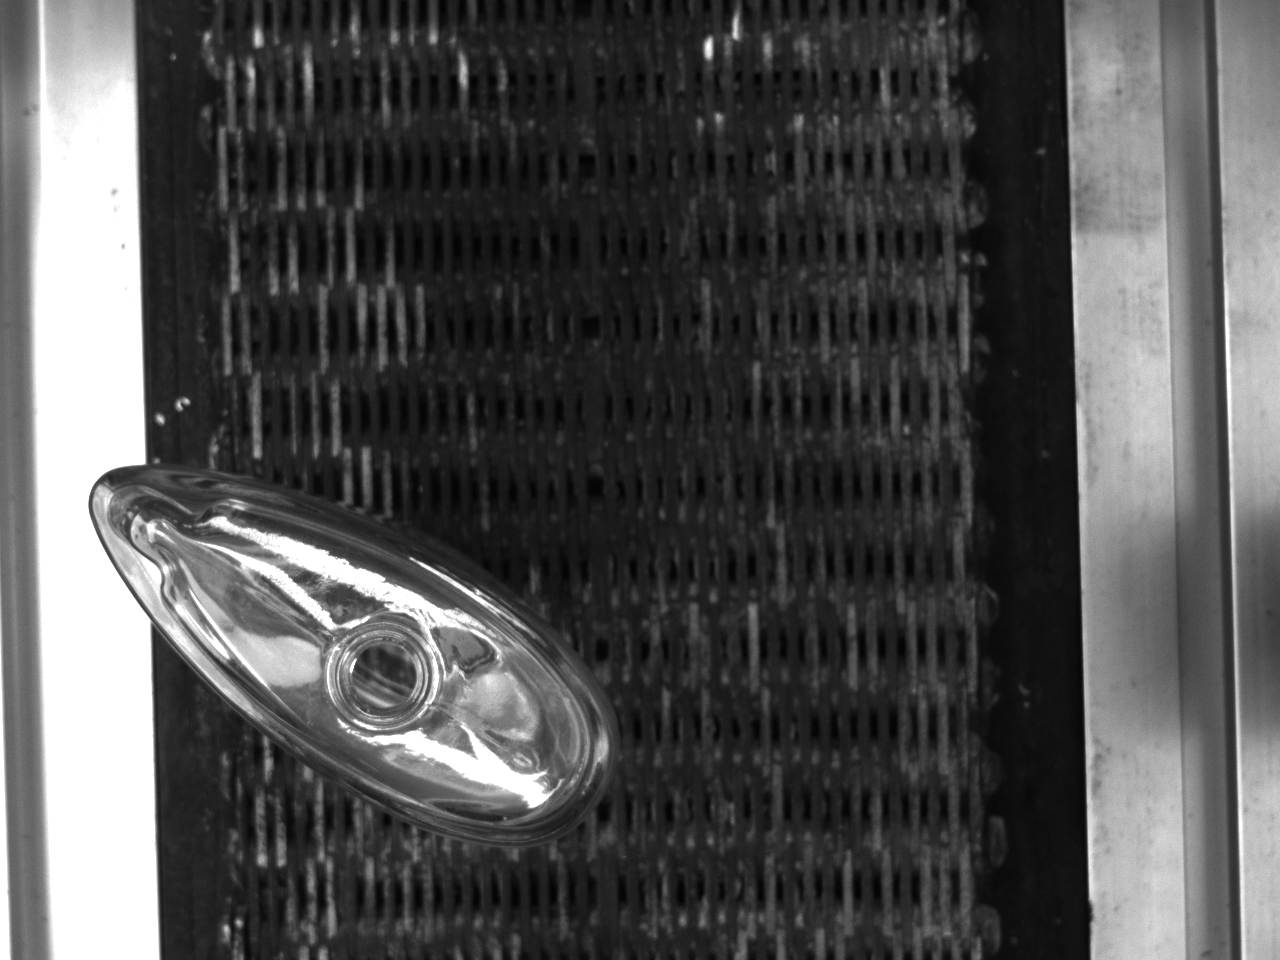bottleneck: (326, 621, 442, 732)
